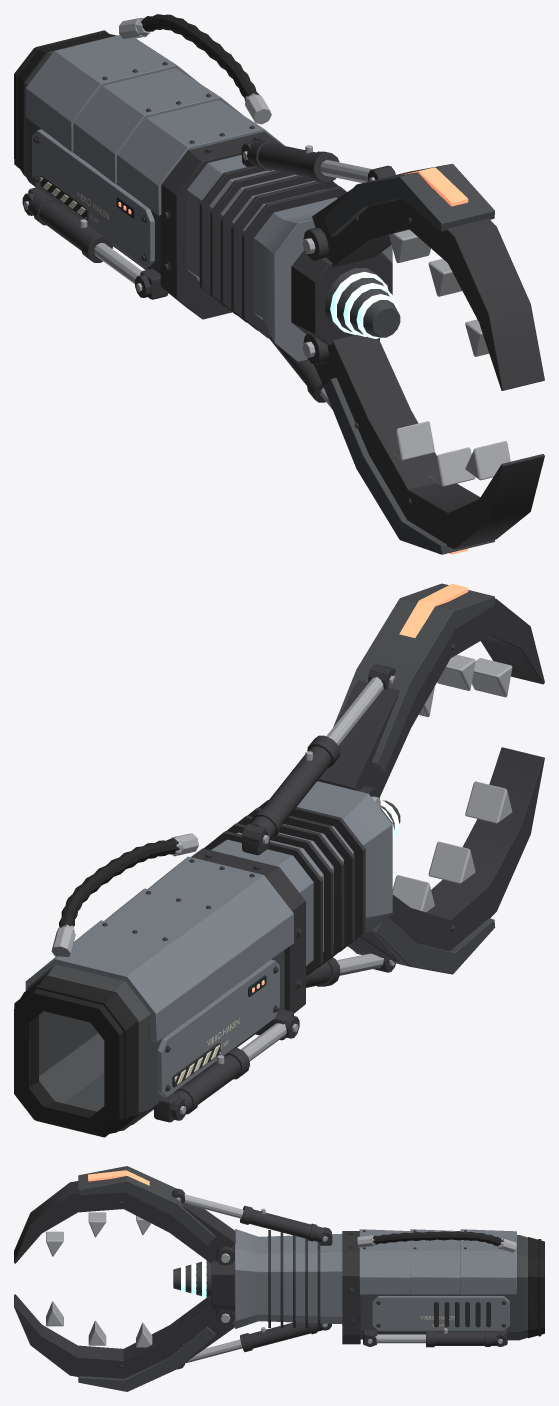
File: haken.glb
3 views of the same model, one above another, from view 1: azimuth 30°, elevation 25°; view 2: azimuth 150°, elevation 25°; view 3: azimuth 270°, elevation 25° (orthographic). The views are drawn at different scales.
Visible parts, largest first — view 1: Body; view 2: Body; view 3: Body.
Boxes of the visible parts, bbox=[...] form: Body: bbox=[14, 14, 544, 554]; Body: bbox=[14, 583, 544, 1137]; Body: bbox=[14, 1166, 544, 1391].
Size of the model in its own units: 0.2301 by 0.4957 by 1.12.
